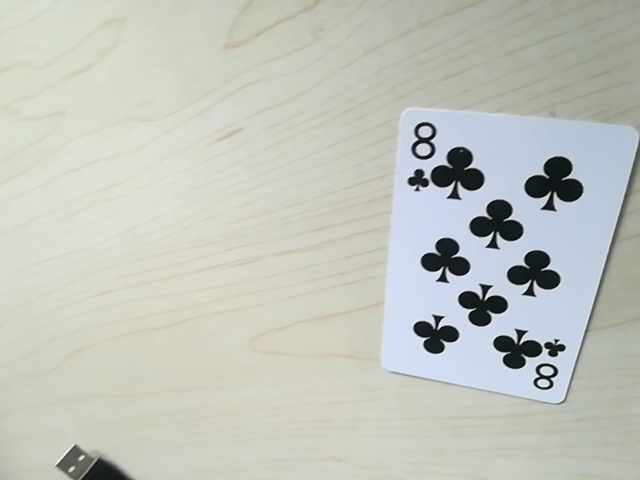mh 8: (396, 113, 447, 187), (518, 347, 571, 396)
